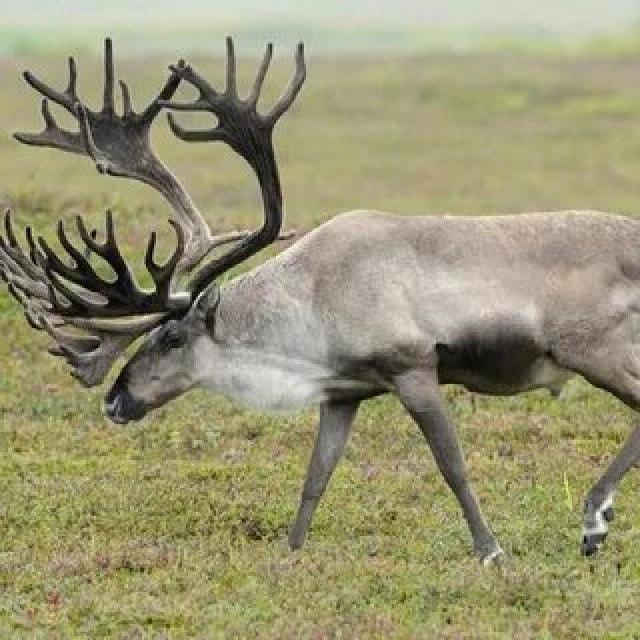deer: (30, 67, 640, 544)
